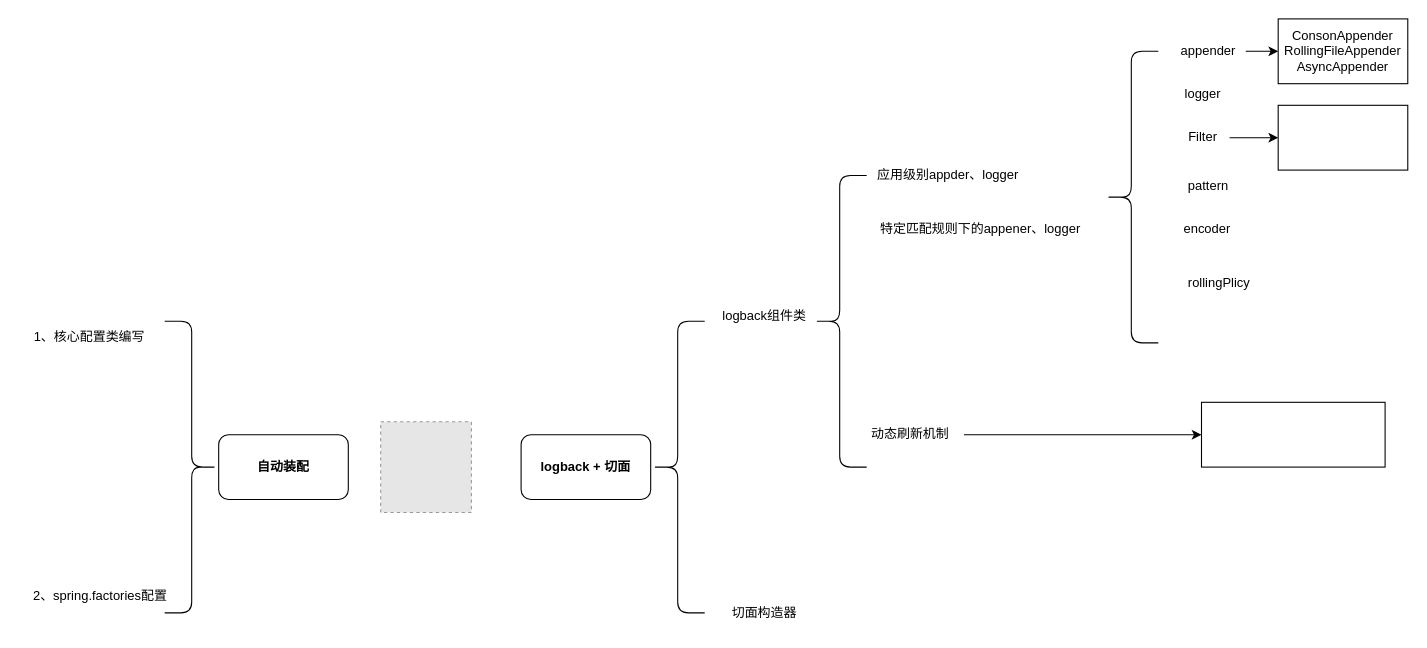
Some shapes in this 1427 by 648 pixel diagram are drawn without their labels. Grey dashed boxes stand in for pictures. Each missing label, with the centre of its shape:
levelFilter ThresholdFilter: point 1342,137
SmartApplicationListener RefreshScopeRefreshEvent: point 1292,434
